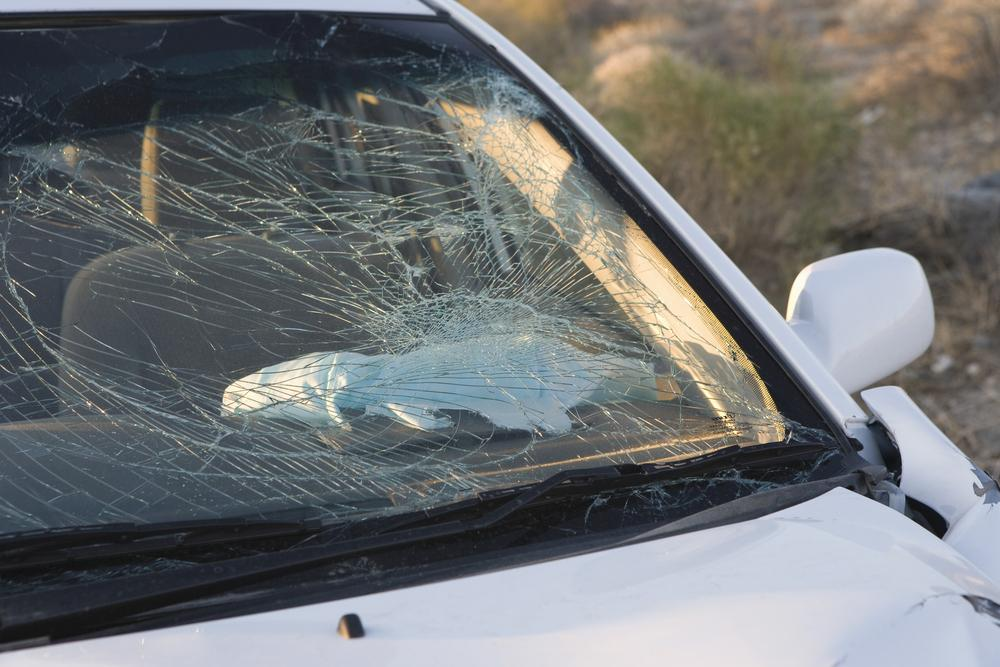glass shatter: (0, 12, 848, 590)
